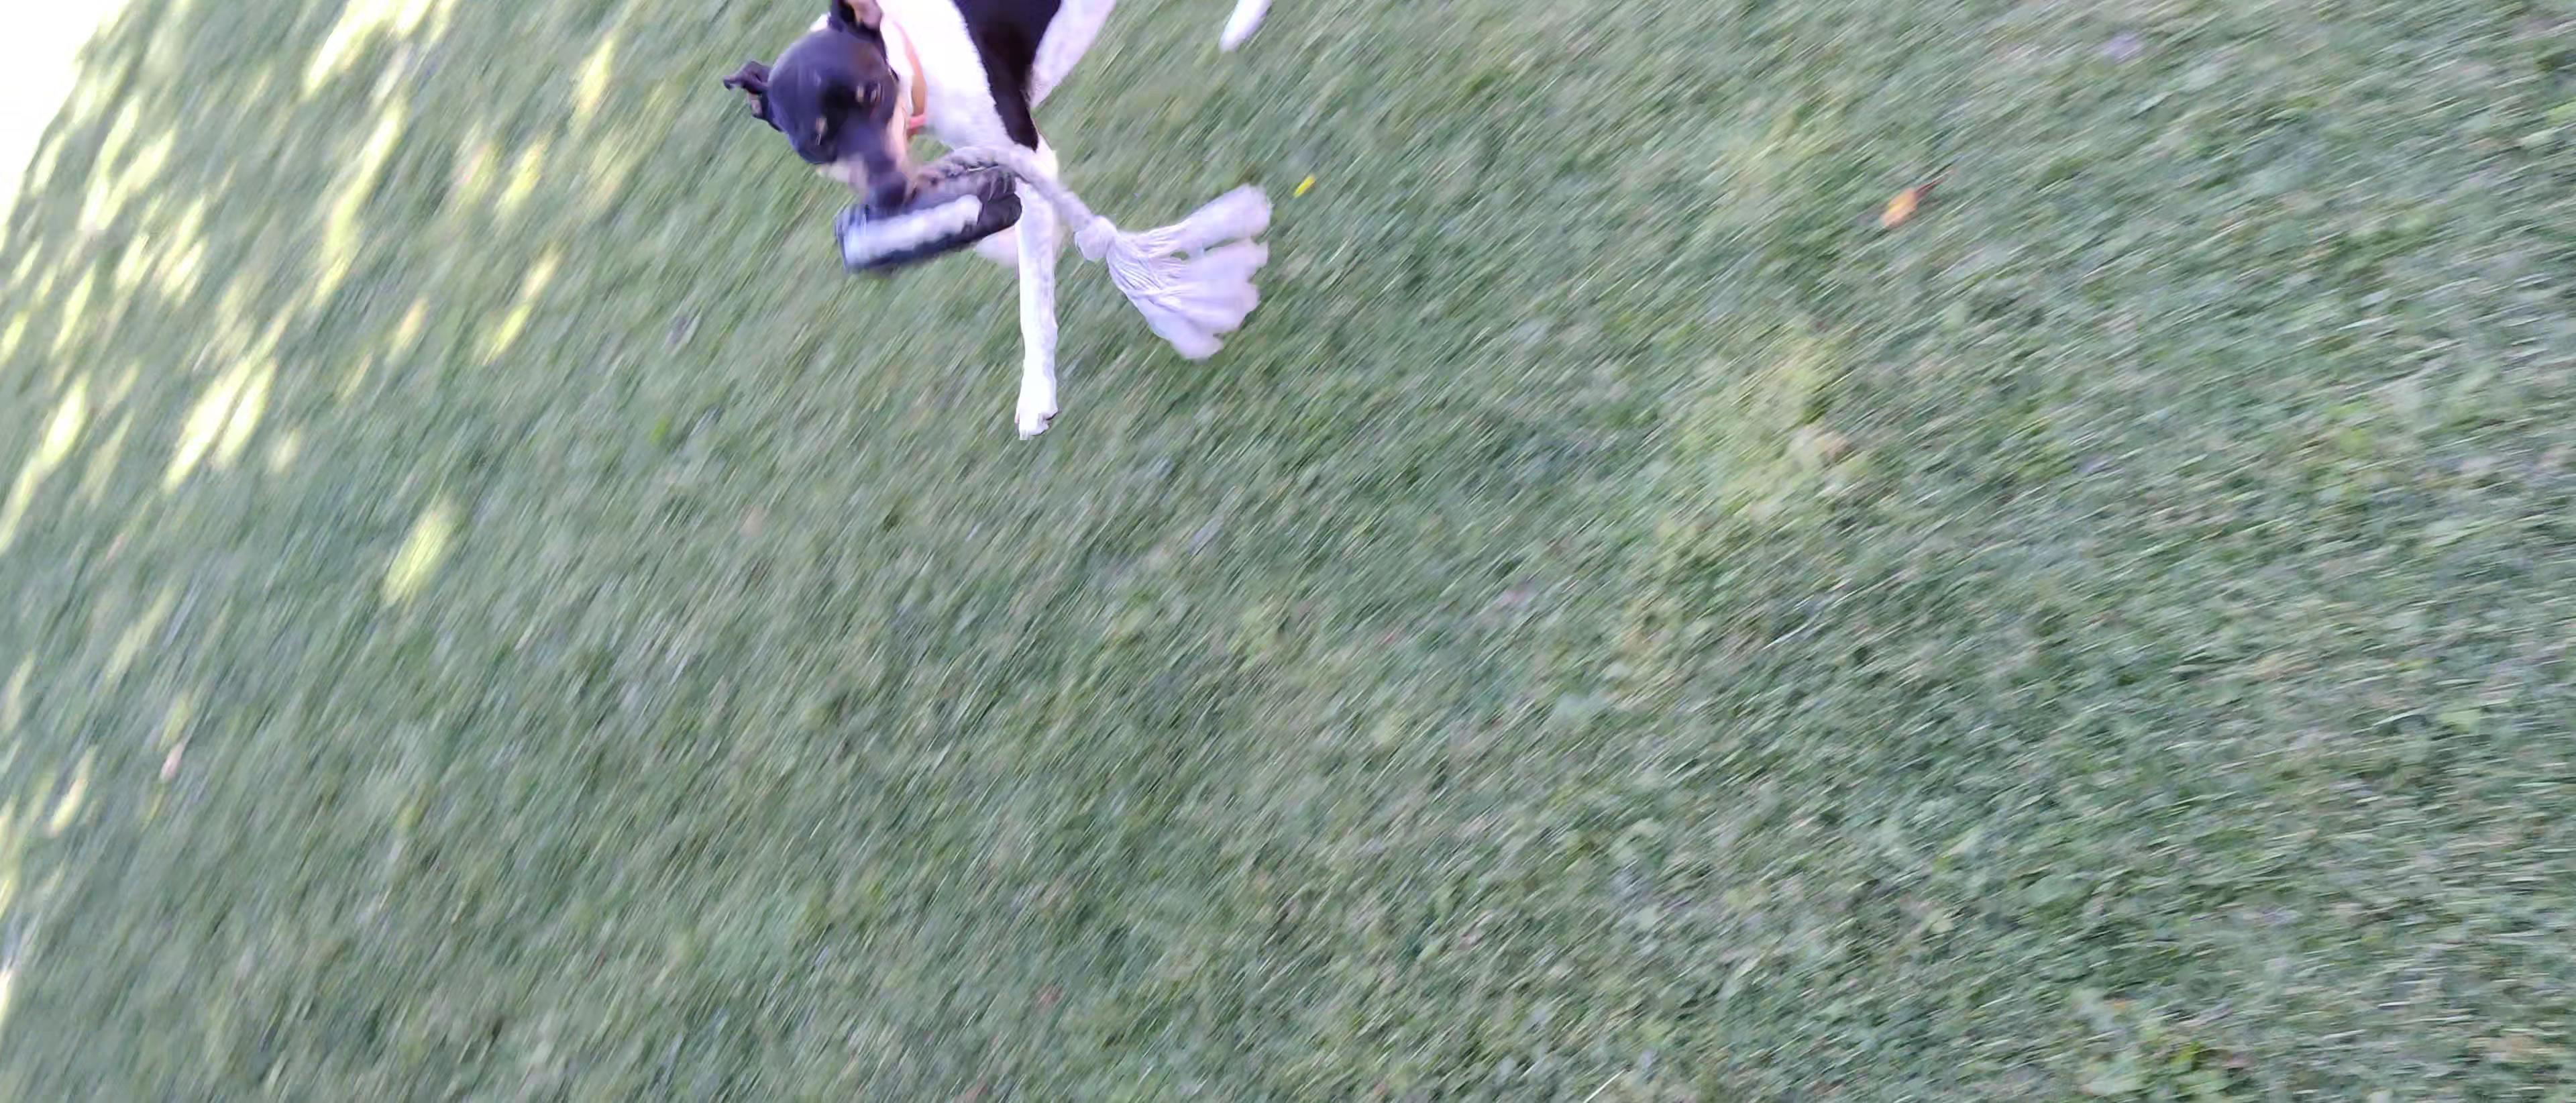Dog: (720, 0, 1301, 449)
